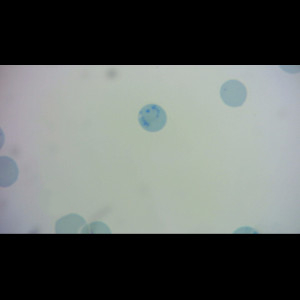aggregate reticulocyte: (136, 103, 168, 133)
punctate reticulocyte: (219, 79, 248, 107)
